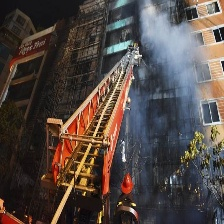smoke: (140, 6, 211, 105)
